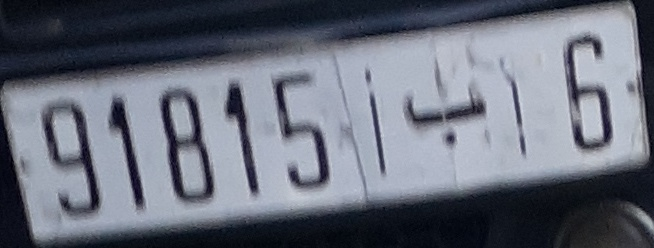1: (103, 94, 154, 215), (215, 79, 265, 202)
5: (271, 68, 335, 195)
6: (558, 29, 617, 154)
8: (154, 84, 218, 206)
9: (37, 96, 105, 219)
b: (402, 76, 490, 150)
